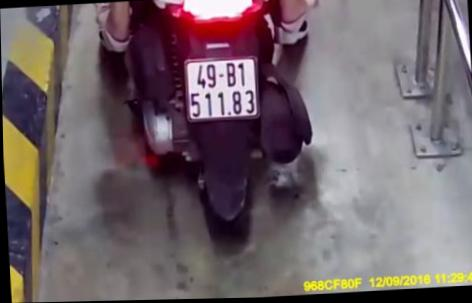LP: (183, 51, 262, 123)
